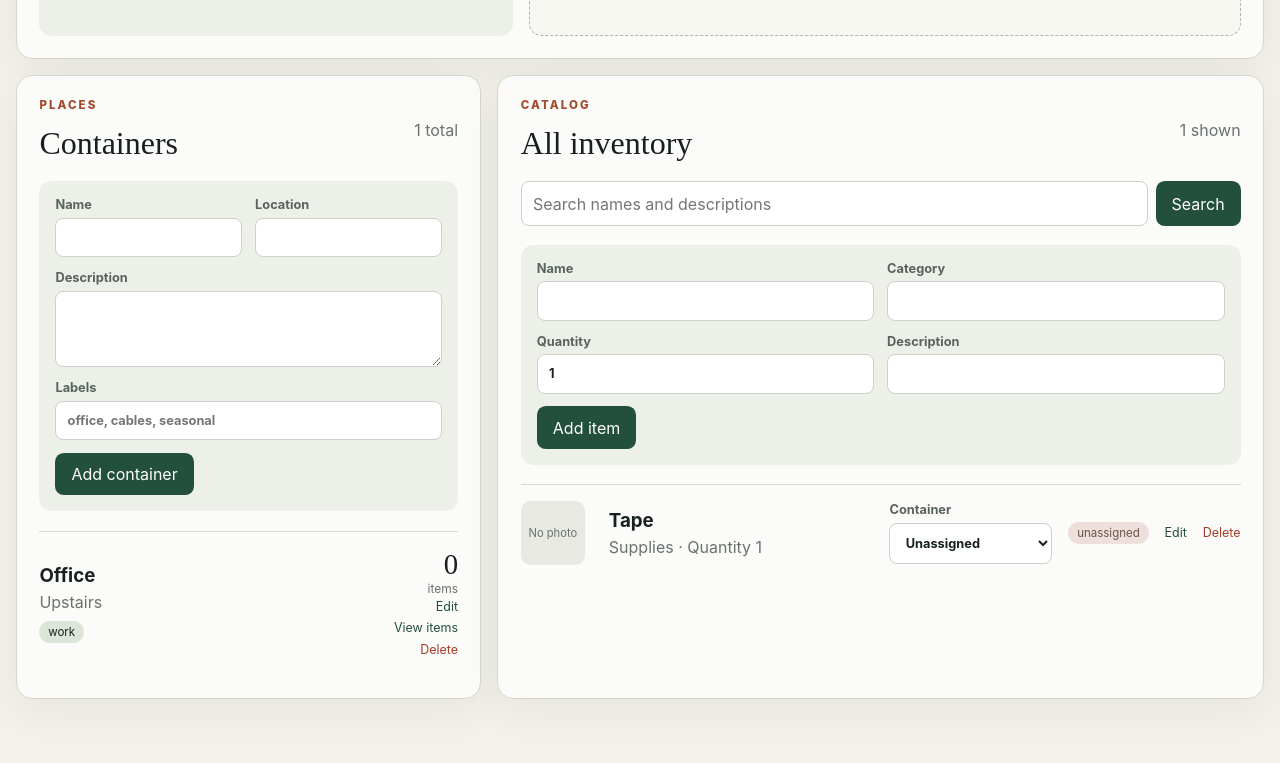
Scenario: opens a container-specific inventory view
(page scrolled)
Expected: the heading "Office" is shown, [39,564,102,587]
Click the button "View items". click: {"x": 426, "y": 628}
box: [394,617,458,638]
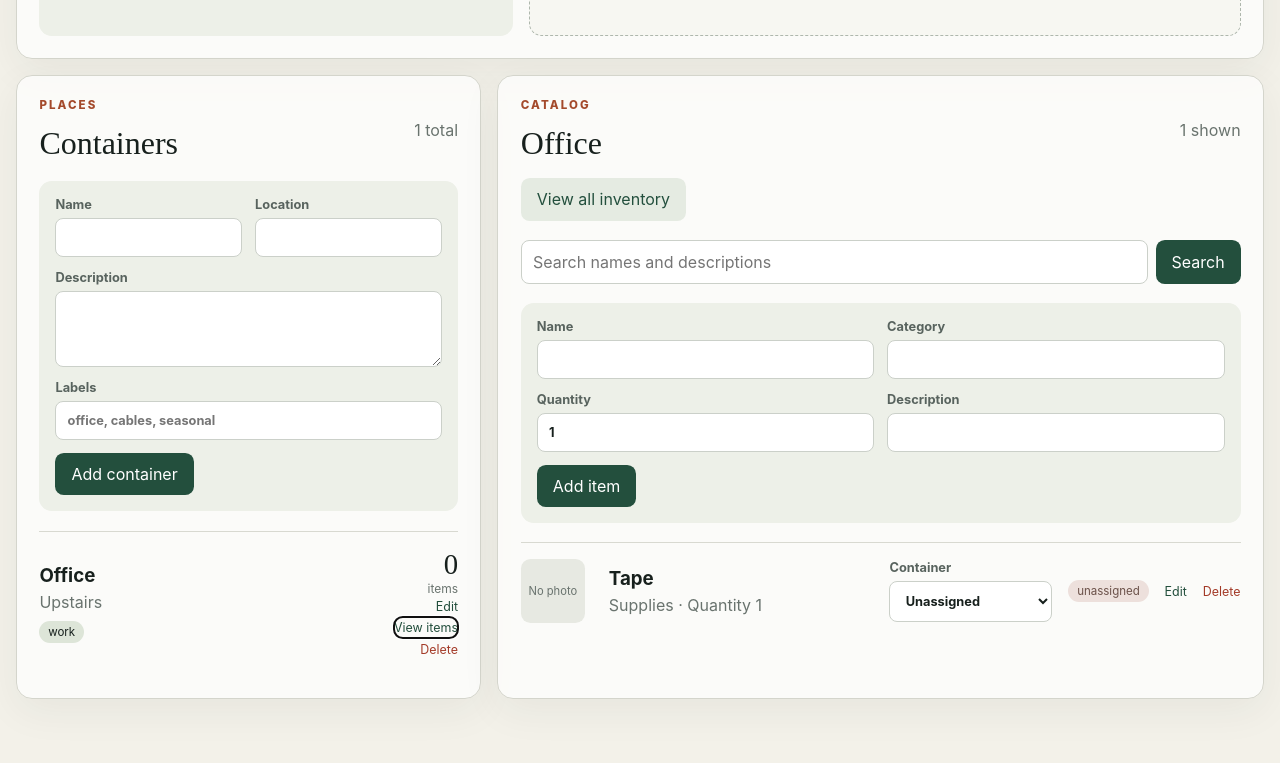
Now the button "View all inventory" is shown, box [521,178,686,220]
